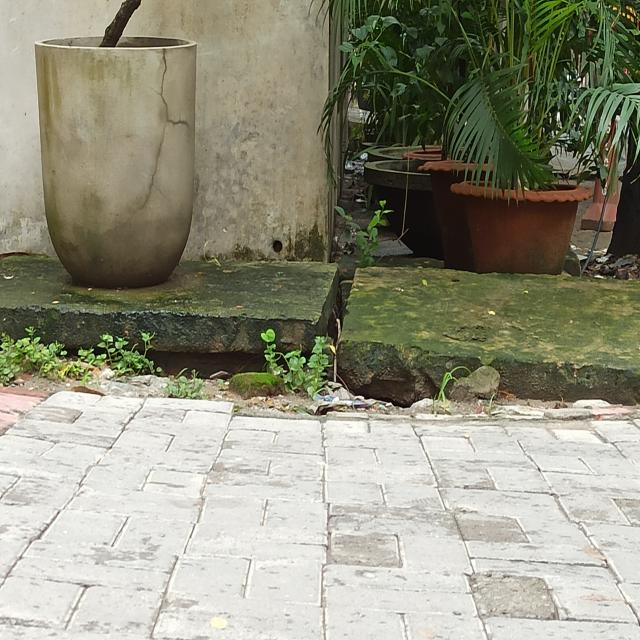artificial_container: (34, 35, 197, 289), (453, 170, 595, 269), (367, 158, 475, 252)
